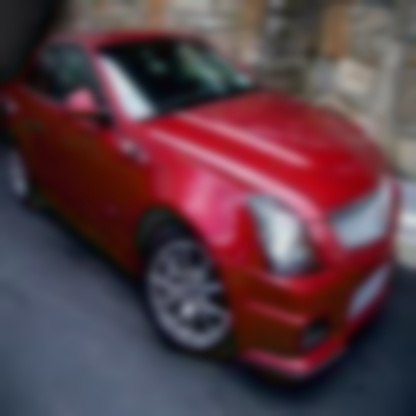Vehicle: (2, 34, 403, 382)
